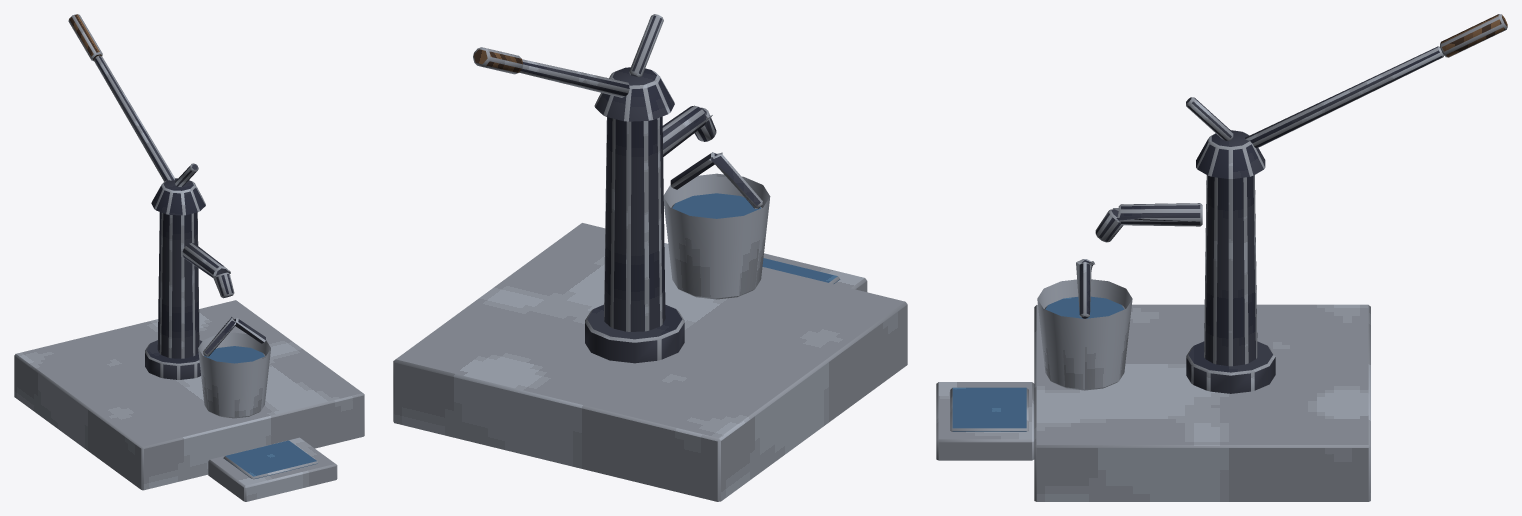
The model's file is cn_hand_pump_0.glb.
3 views of the same model, side by side, from view 1: azimuth 30°, elevation 25°; view 2: azimuth 150°, elevation 25°; view 3: azimuth 270°, elevation 25° (orthographic). The views are drawn at different scales.
Parts seen in each view (by area): view 1: cn_hand_pump_1; view 2: cn_hand_pump_1; view 3: cn_hand_pump_1.
Part boxes in pixels (left/top/right/bottom): cn_hand_pump_1: left=14, top=14, right=364, bottom=501; cn_hand_pump_1: left=393, top=14, right=907, bottom=501; cn_hand_pump_1: left=936, top=14, right=1507, bottom=501.
Size of the model in its own units: 1.2 by 1.64 by 2.04.
Materials: 5 (5 with a texture image).
